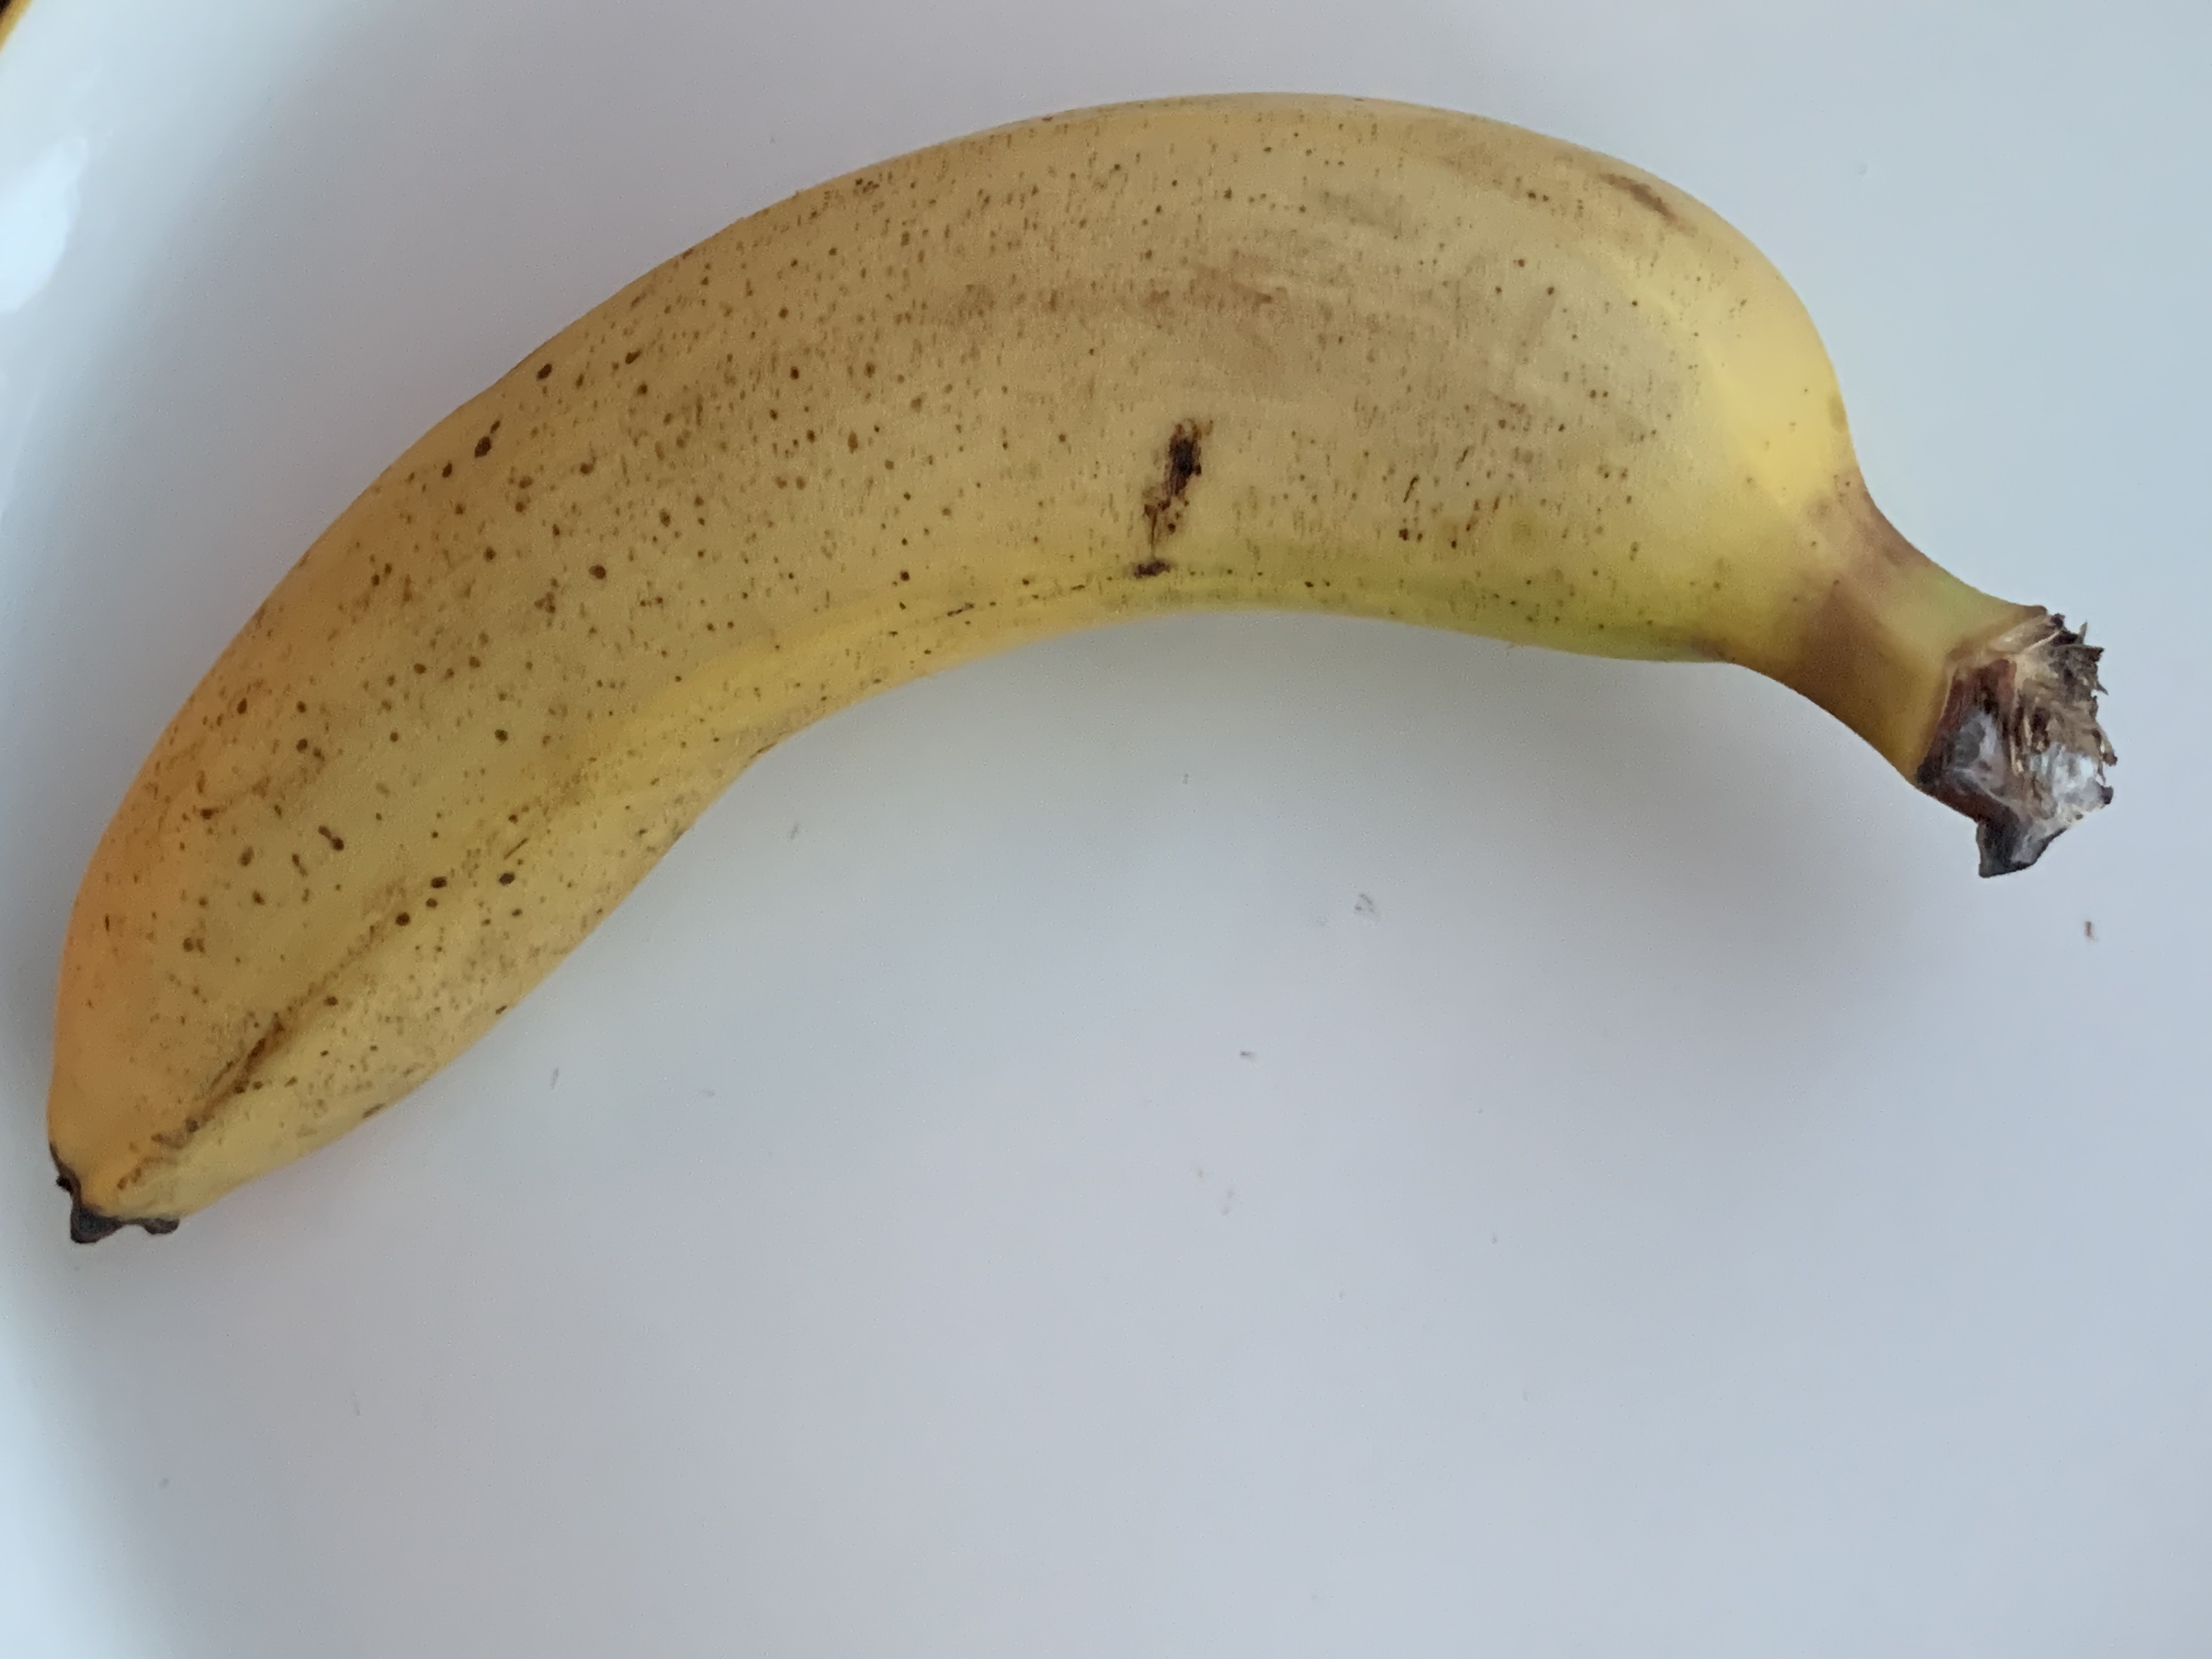banana: (16, 87, 2212, 1251)
